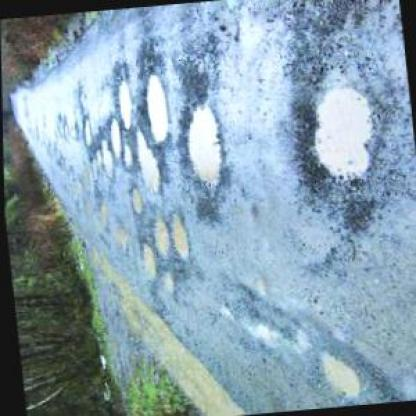pothole: (287, 82, 383, 197), (179, 101, 225, 190), (312, 348, 359, 402), (140, 69, 169, 146), (165, 211, 189, 263), (111, 78, 133, 130), (104, 115, 123, 161), (148, 218, 170, 255), (136, 241, 154, 280), (97, 138, 112, 178), (126, 184, 142, 216), (78, 116, 93, 146), (157, 268, 172, 295)
